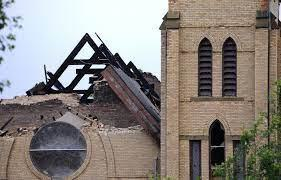sagging_roof: (24, 23, 158, 121)
